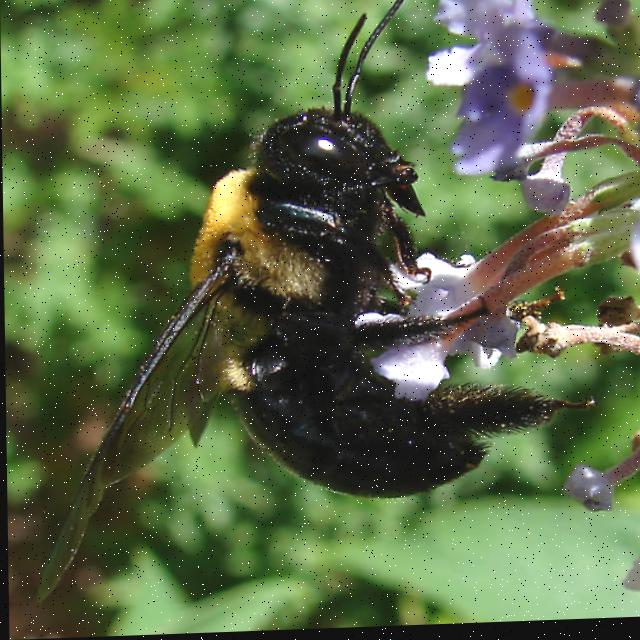Xylocopa: (34, 0, 581, 609)
